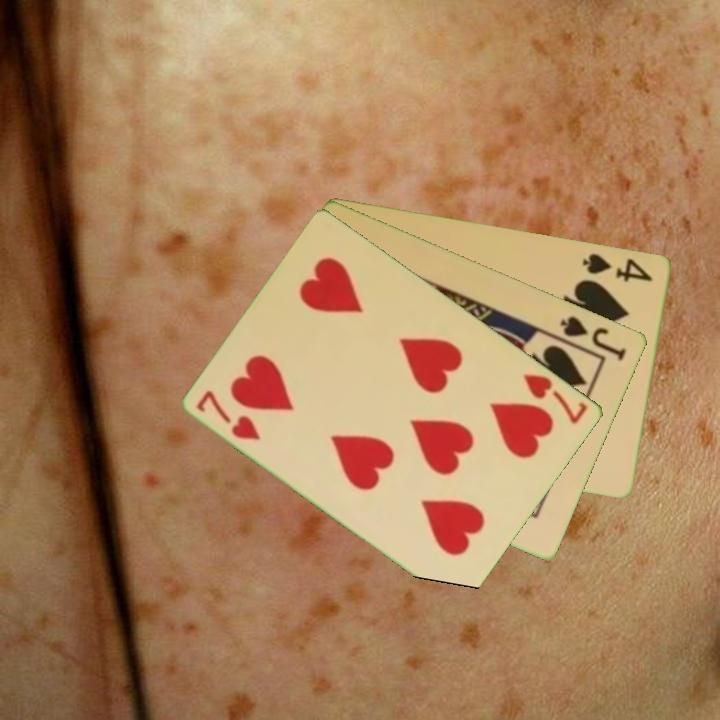4s: (579, 249, 657, 285)
7h: (520, 370, 592, 427), (194, 387, 265, 444)
Js: (557, 312, 630, 364)
